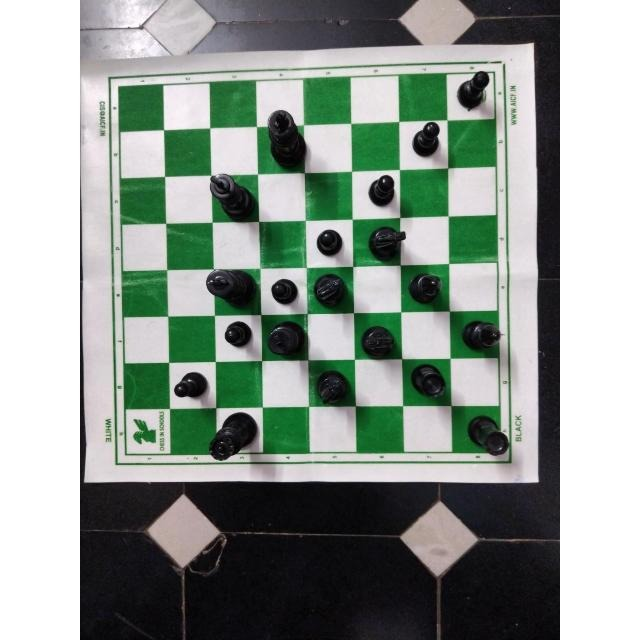black-bishop: (459, 320, 503, 354), (407, 272, 447, 308)
black-king: (265, 105, 311, 173), (208, 171, 259, 221), (204, 265, 258, 307), (267, 322, 306, 358)
black-knight: (364, 221, 408, 261), (314, 367, 354, 409), (358, 324, 398, 362), (313, 271, 351, 310)
black-pawn: (455, 70, 494, 116), (170, 369, 213, 402), (362, 175, 399, 213), (411, 120, 445, 161), (268, 276, 304, 307), (314, 226, 348, 257), (222, 320, 253, 349)
black-queen: (208, 411, 262, 461)
black-rook: (466, 410, 511, 459), (406, 360, 447, 399)
